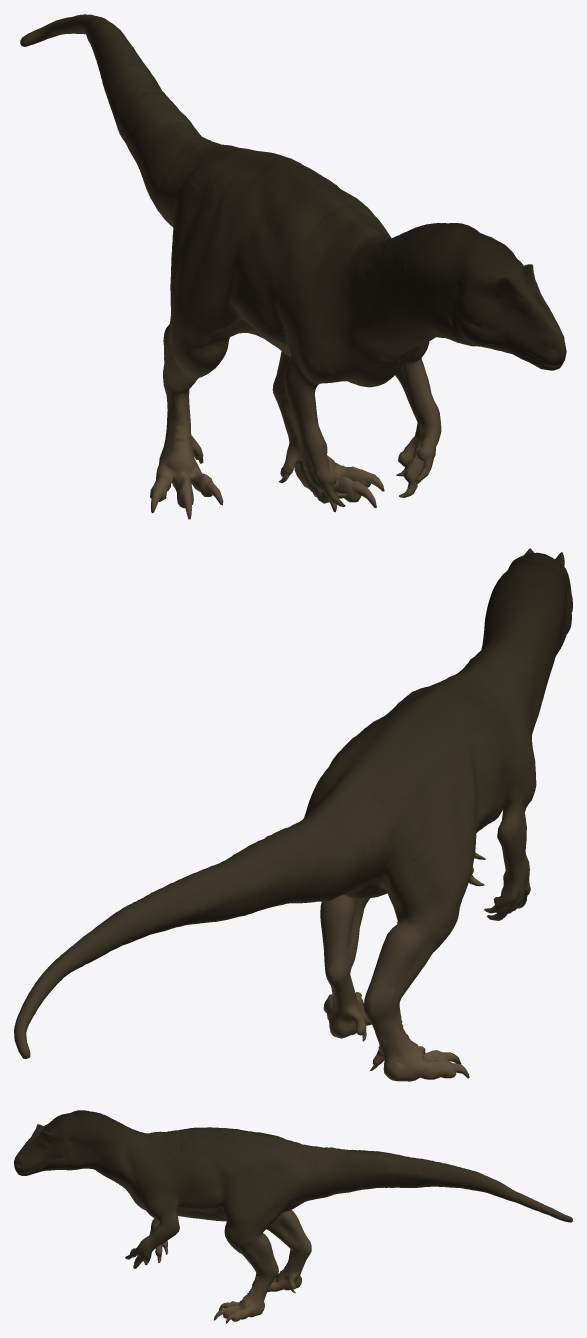
File: allosaurus.glb
The picture shows the model from 3 angles, top to bottom: view 1: azimuth 30°, elevation 25°; view 2: azimuth 150°, elevation 25°; view 3: azimuth 270°, elevation 25°; orthographic projection. The views are drawn at different scales.
Parts seen in each view (by area): view 1: allosaurus_posed; view 2: allosaurus_posed; view 3: allosaurus_posed.
Part boxes in pixels (x1,y1,x2,y2): allosaurus_posed: [20, 14, 566, 519]; allosaurus_posed: [14, 548, 572, 1081]; allosaurus_posed: [14, 1110, 572, 1323].
Bounding box in the file's own units: 34.74 × 63.89 × 164.
